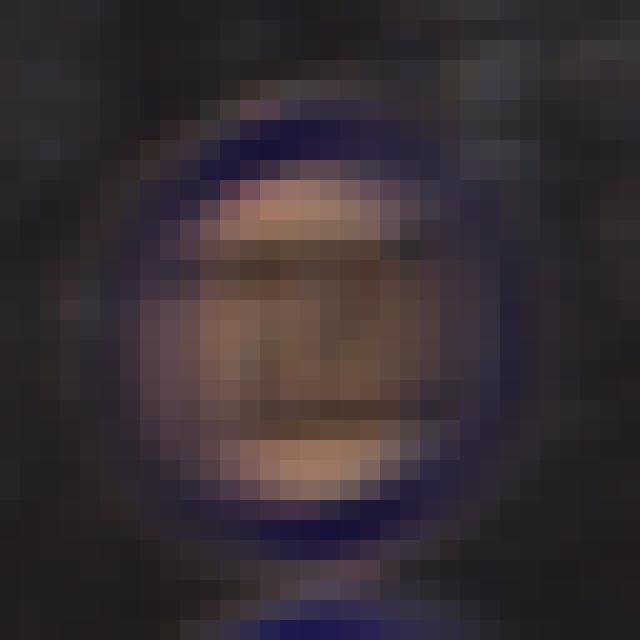SPEED LIMIT 120: (100, 113, 552, 548)
